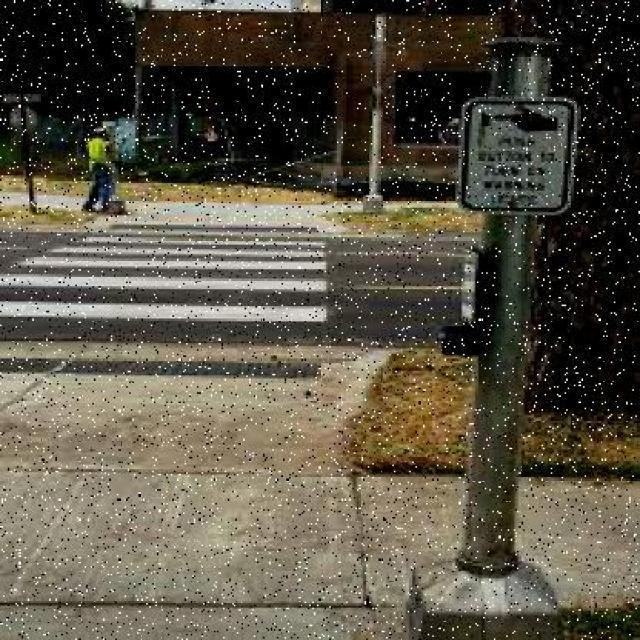crosswalk: (0, 228, 327, 331)
